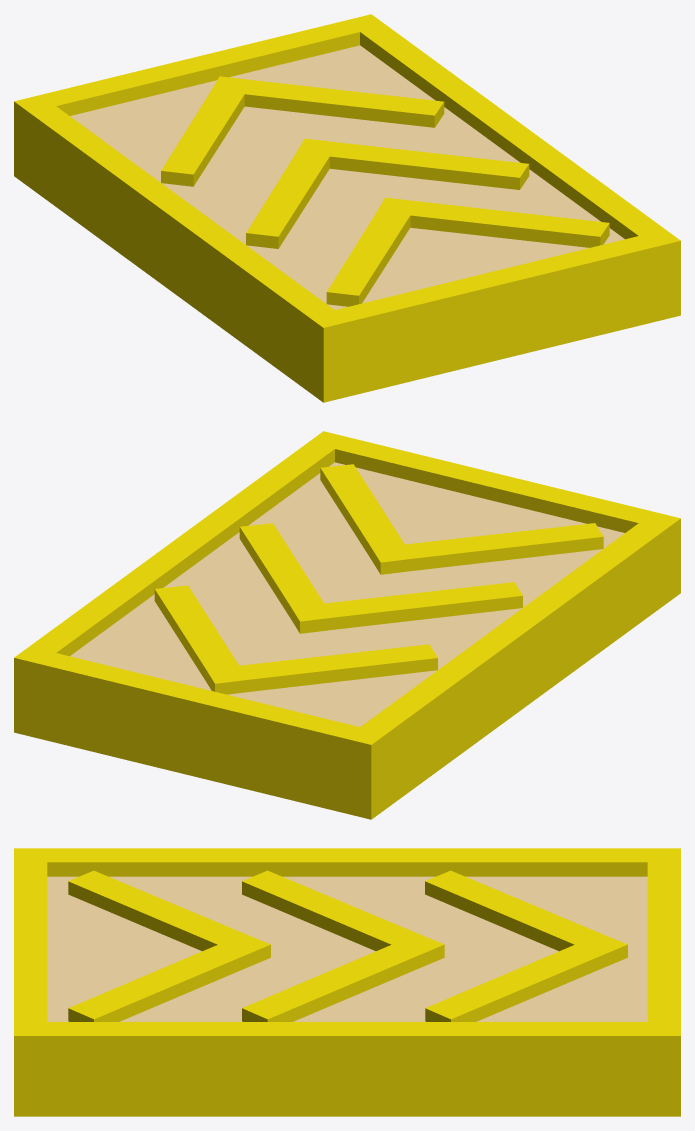
File: Toypad.FBX
3 renders of one model, top to bottom at view 1: azimuth 30°, elevation 25°; view 2: azimuth 150°, elevation 25°; view 3: azimuth 270°, elevation 25°, orthographic. The views are drawn at different scales.
Visible parts, largest first — view 1: Box001, Box003, Box002, Box004; view 2: Box001, Box004, Box003, Box002; view 3: Box001, Box004, Box002, Box003.
Part boxes in pixels (<box>): Box001: <box>14,14,680,402</box>; Box003: <box>246,138,529,248</box>; Box002: <box>161,76,444,186</box>; Box004: <box>326,197,609,306</box>; Box001: <box>14,431,680,819</box>; Box004: <box>320,464,603,574</box>; Box003: <box>239,523,522,633</box>; Box002: <box>154,585,437,694</box>; Box001: <box>14,848,680,1116</box>; Box004: <box>68,870,270,1021</box>; Box002: <box>425,870,627,1021</box>; Box003: <box>242,870,444,1021</box>.
Size of the model in its own units: 39.37 by 7.87 by 59.06.
2 materials, 2 textured.
